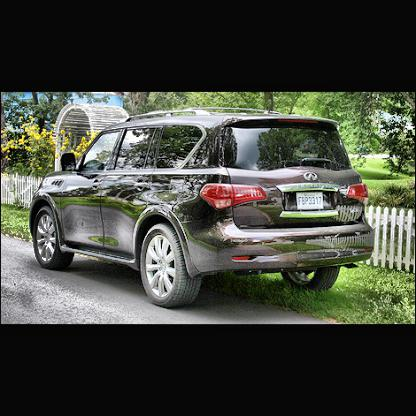Infiniti QX56 SUV 2011: (30, 106, 379, 312)
